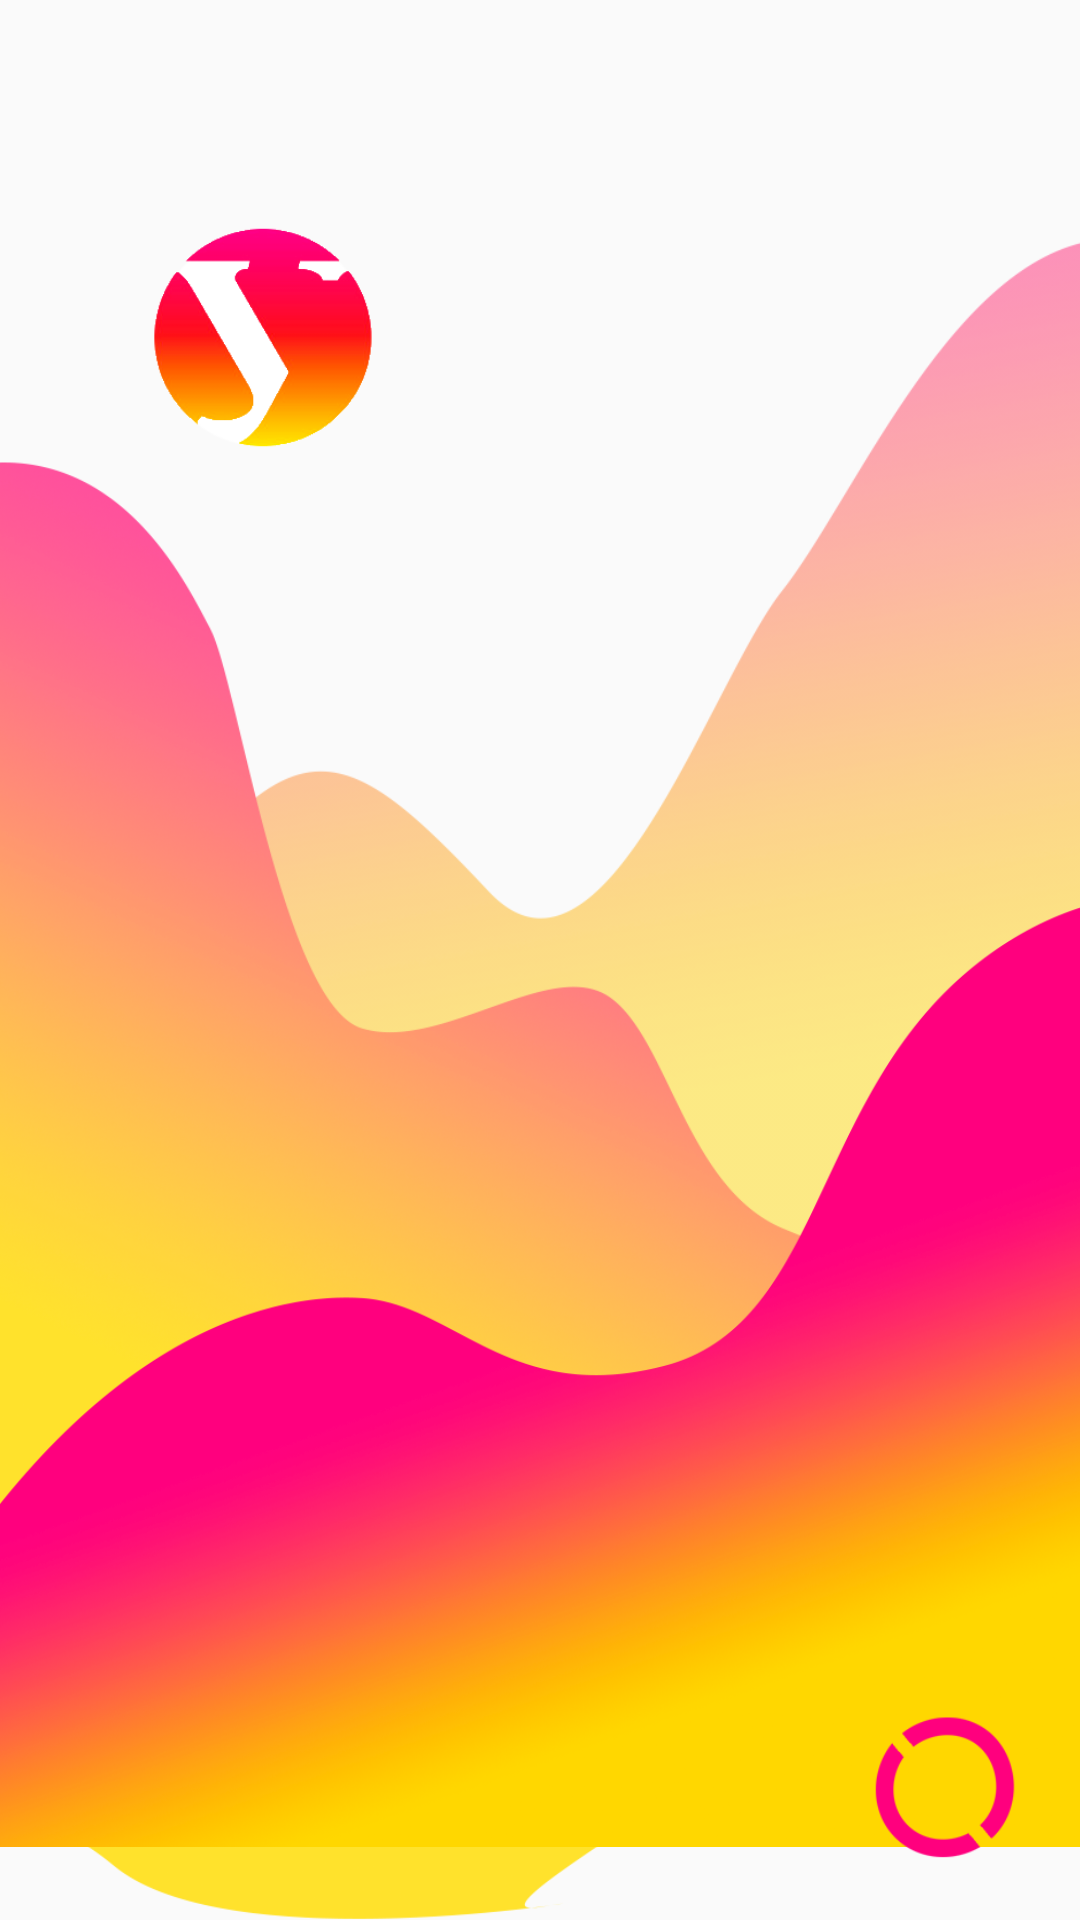

Locate icon controls on the screen. Image size 1080×1920, boxes as (x1=x1, y1=y1, x2=x2, y2=y2).
loading: (x1=870, y1=1717, x2=1020, y2=1860)
